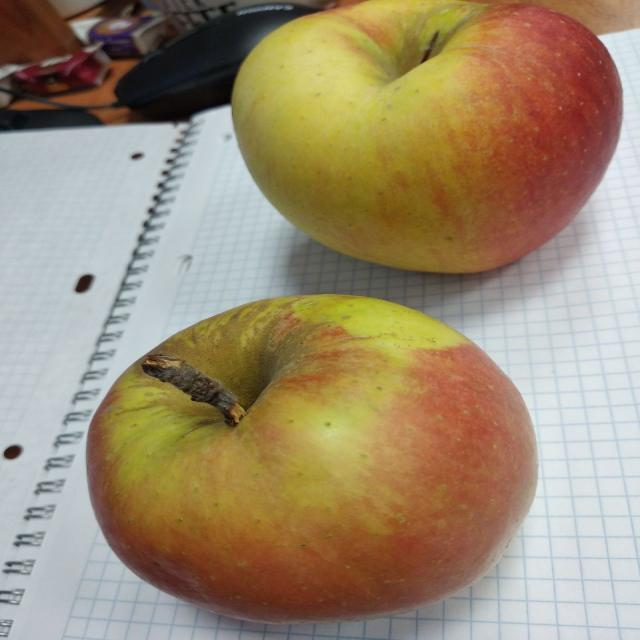Fresh Apple: (80, 292, 546, 616), (218, 6, 616, 266)
